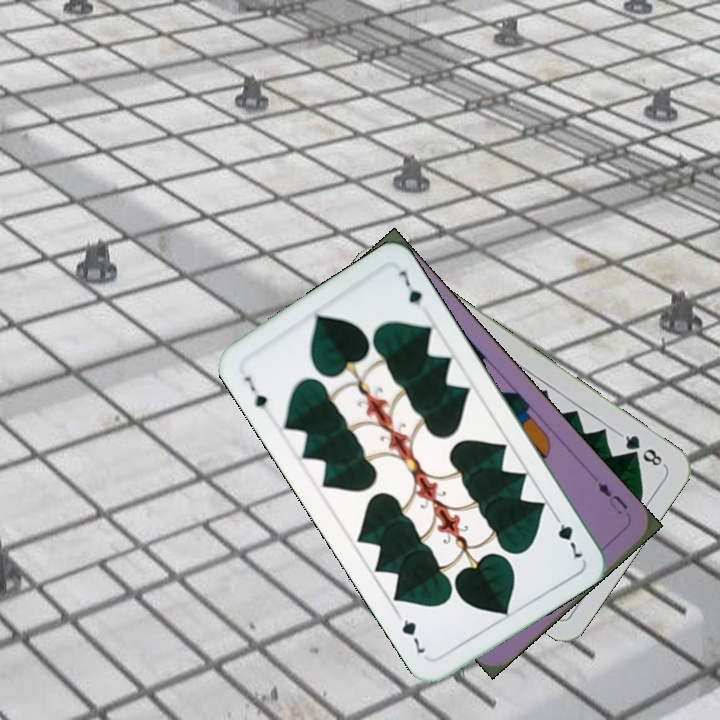EU: (593, 478, 631, 517)
G7: (549, 508, 586, 563), (240, 372, 270, 412)
G8: (615, 430, 667, 469)
